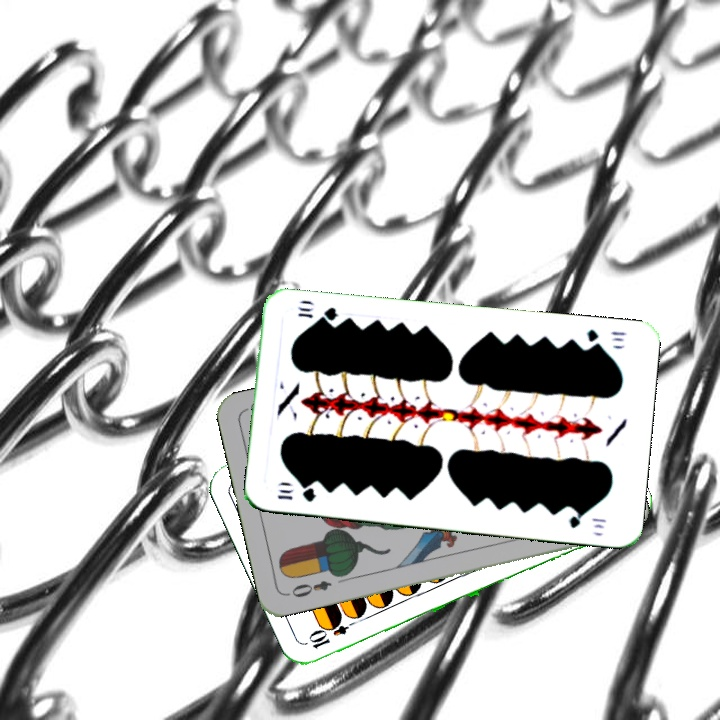E10: (305, 613, 362, 652)
EO: (283, 576, 334, 600)
G10: (583, 325, 629, 351), (273, 483, 318, 504)
